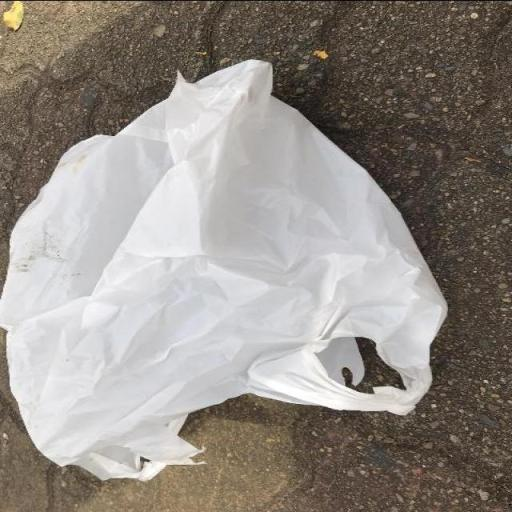plastic-bag: (0, 56, 450, 482)
